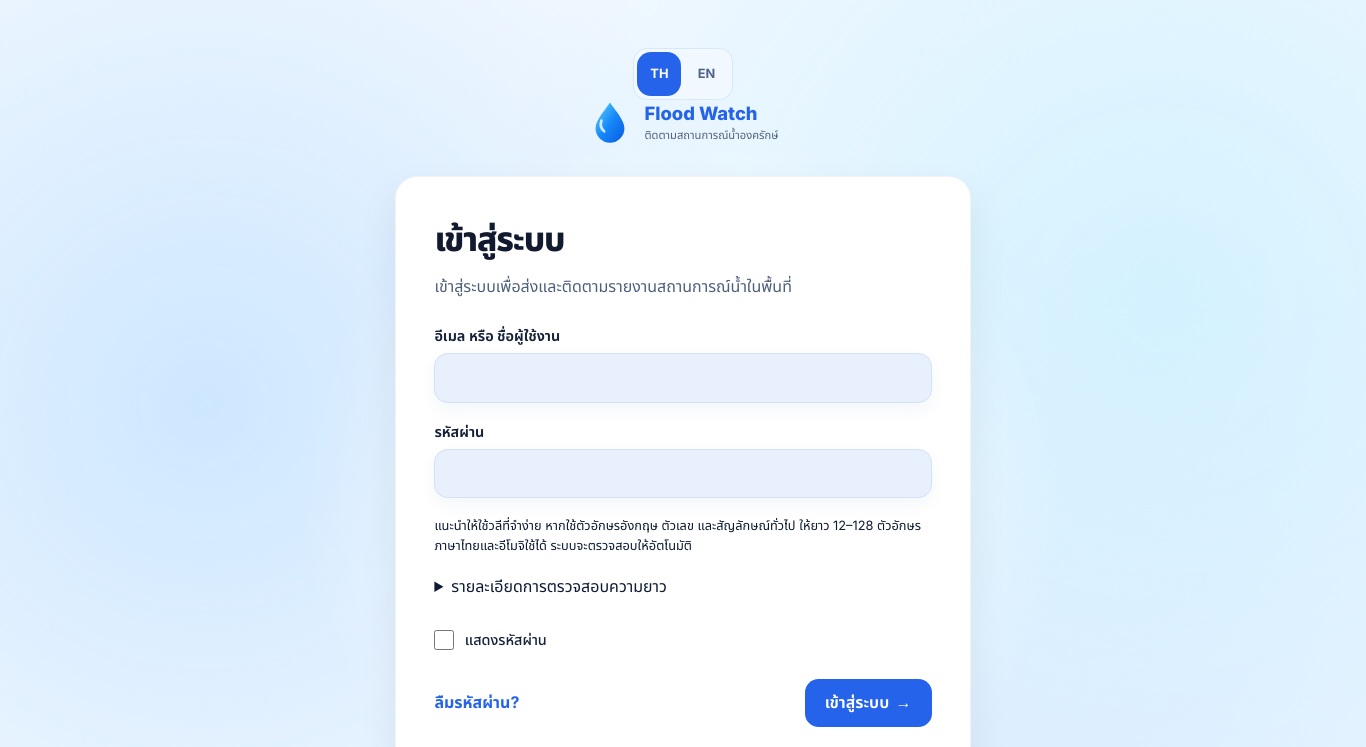
Test: AuthPage › shows API failures inline and in an error notification
Type "user@example.com" into the field labelled "อีเมล หรือ ชื่อผู้ใช้งาน" at coordinates (683, 378), box [434,353,932,402]
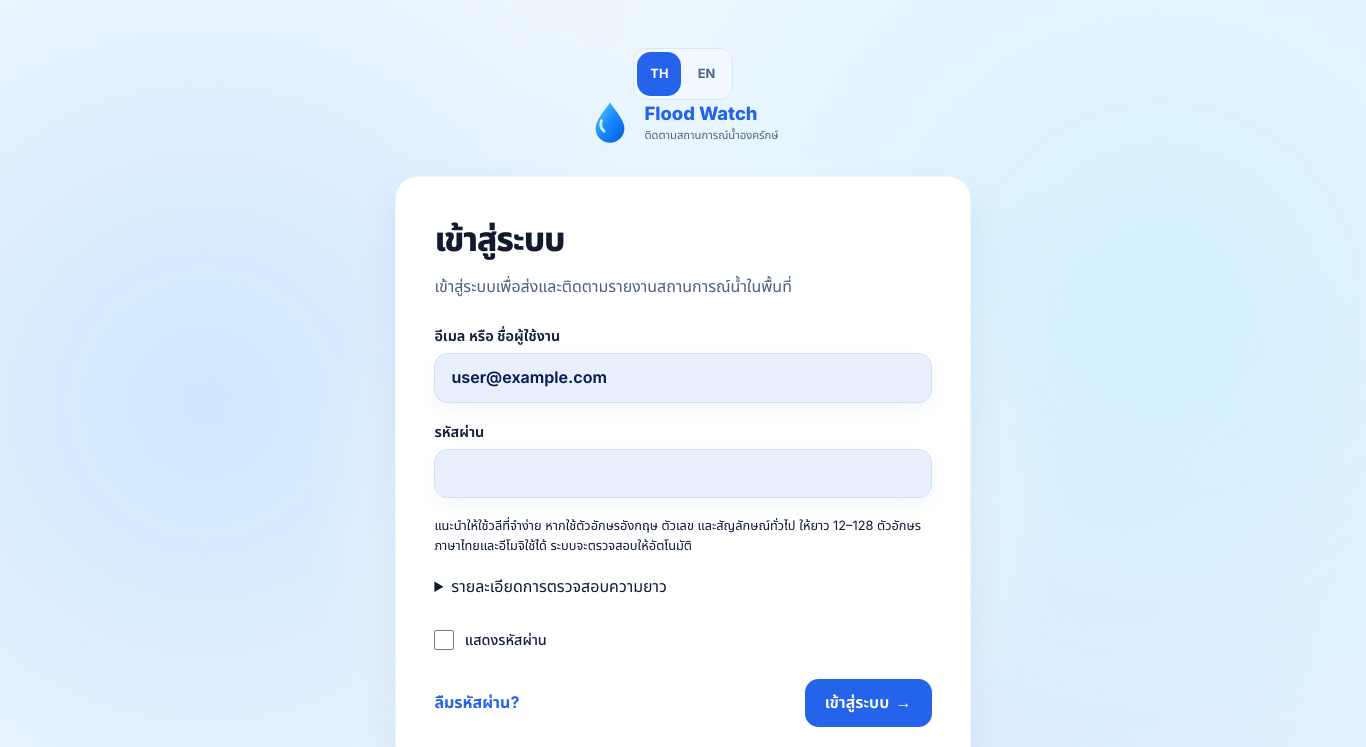
Type "password1234" into the password field labelled "รหัสผ่าน" at coordinates (683, 474), box [434,449,932,498]
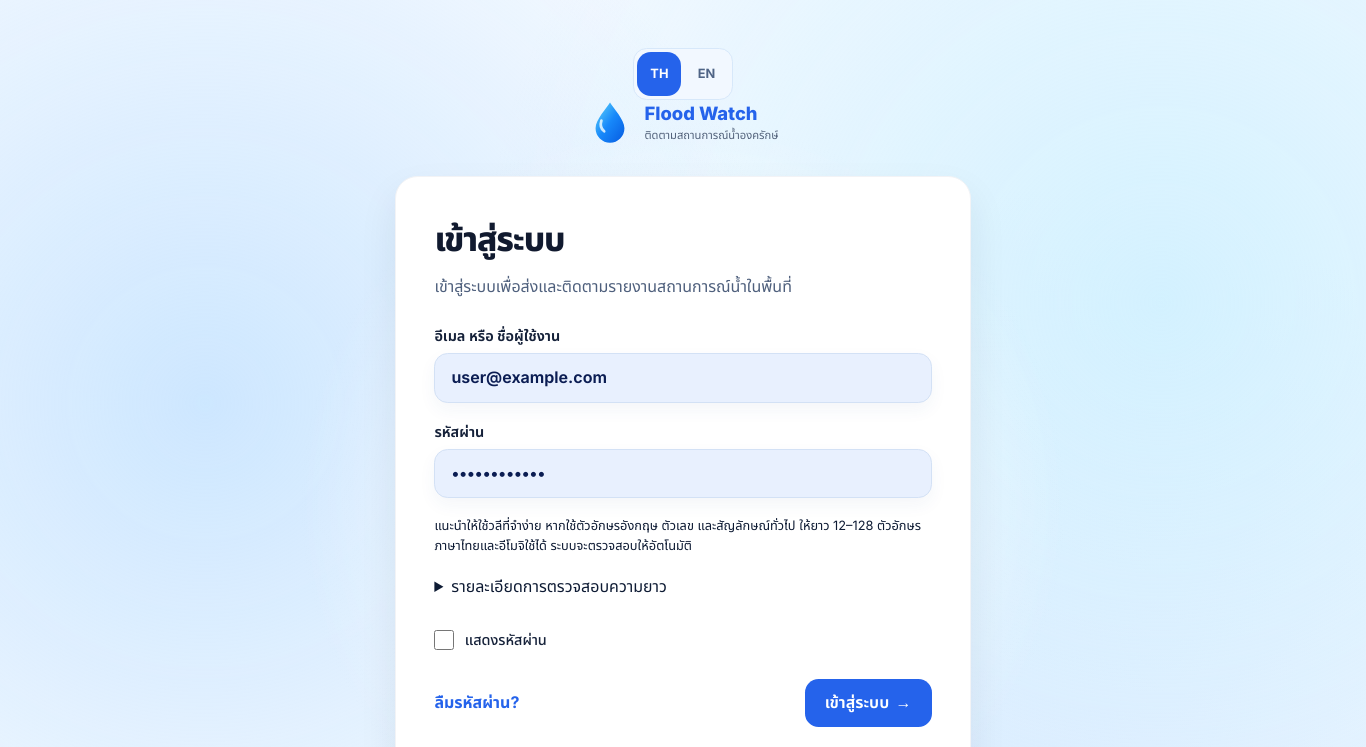
Click the button "เข้าสู่ระบบ →" at coordinates (868, 703), box [805,679,932,727]
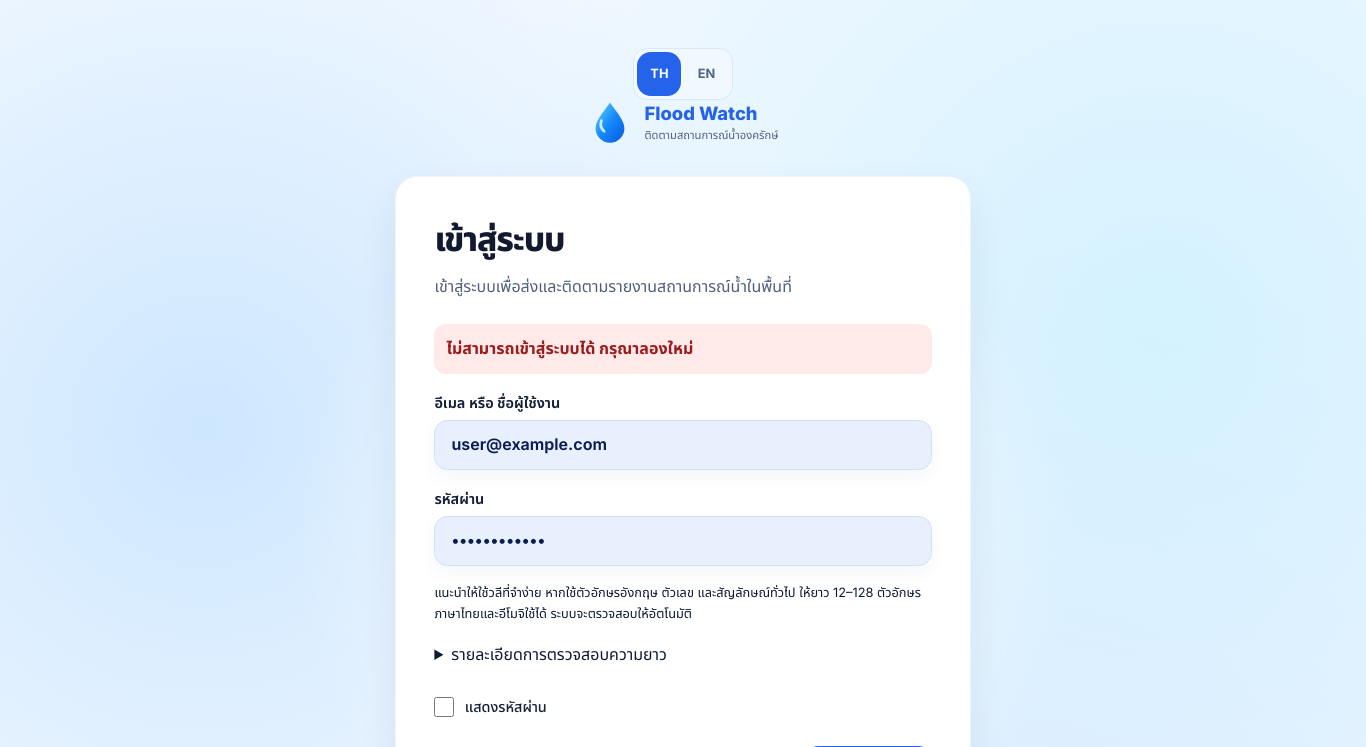
Check: the message reads "ไม่สามารถเข้าสู่ระบบได้ กรุณาลองใหม่", box [446,338,693,358]
